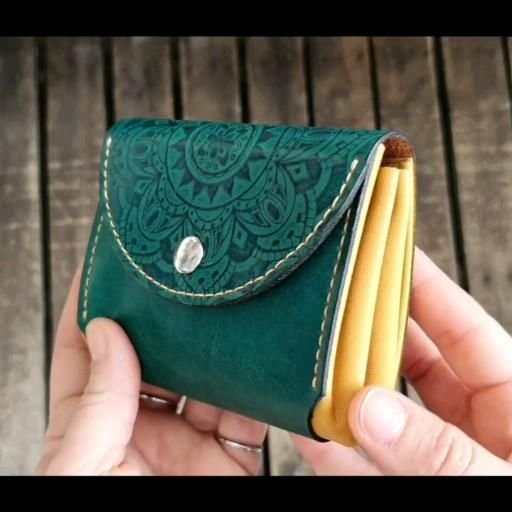cuero: (77, 117, 415, 445)
